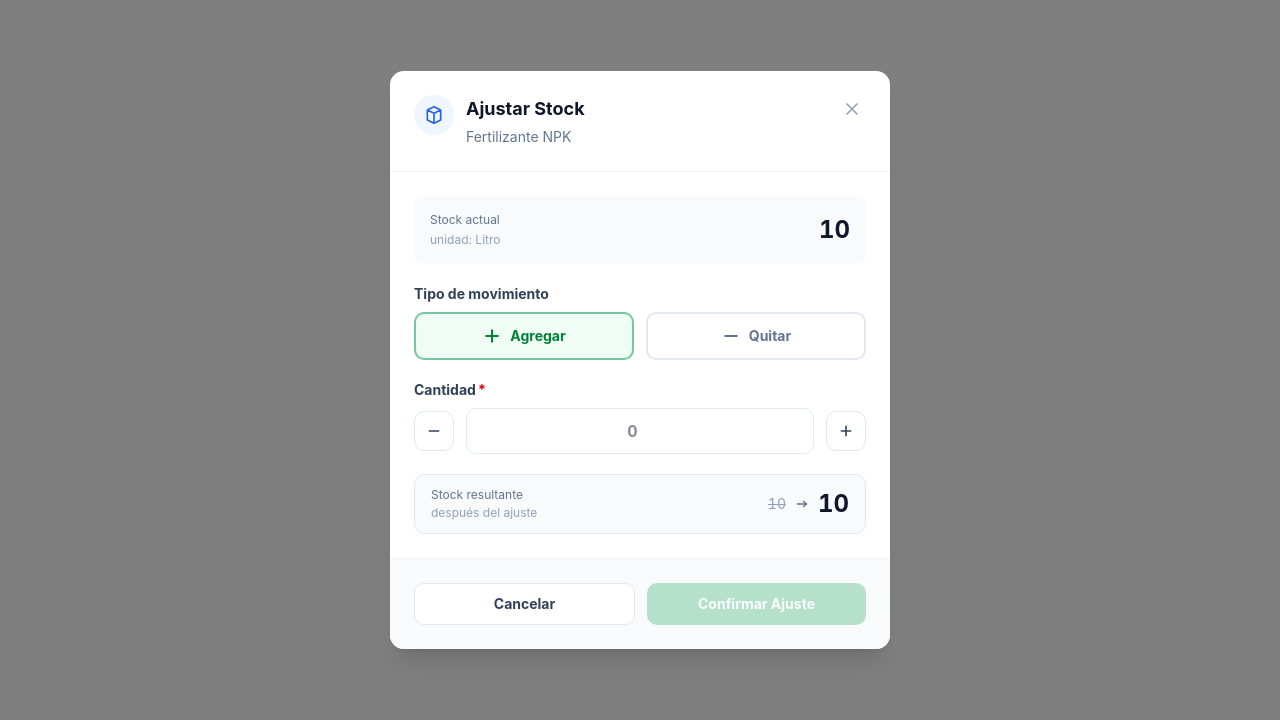
Test: AjustarStockModal › blocks removing more than the current stock
Click the button "Quitar" at (756, 336), box [646, 312, 866, 360]
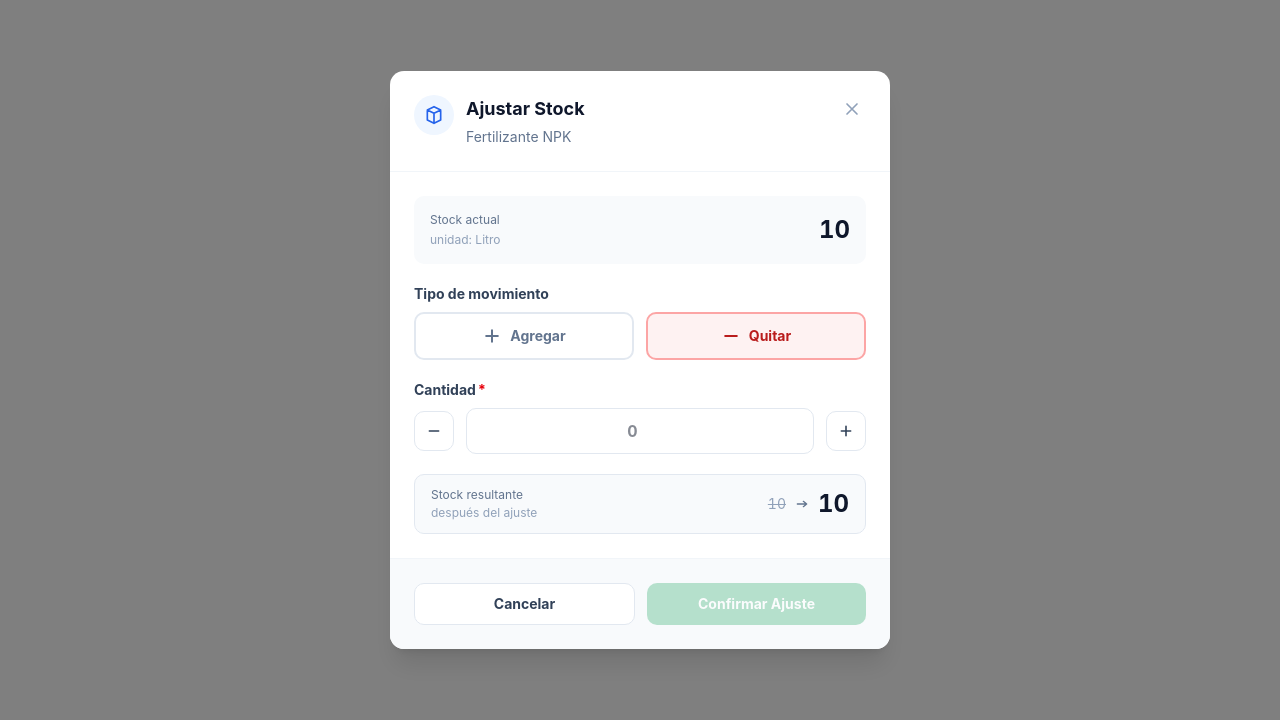
Type "20" into the number field at (640, 431), box [466, 408, 814, 454]
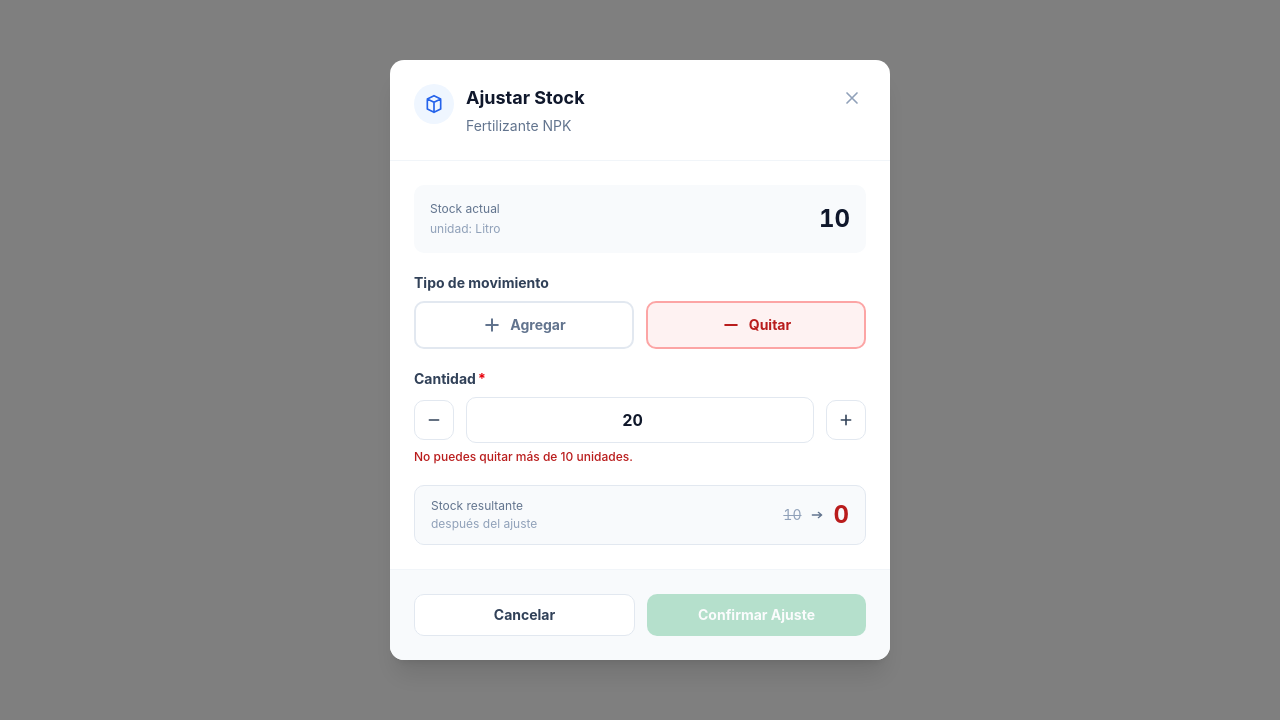
Expected: the button "Confirmar Ajuste" is disabled, [647, 594, 866, 636]
Expected: the text "No puedes quitar más de 10 unidades." is shown, [414, 449, 633, 464]
